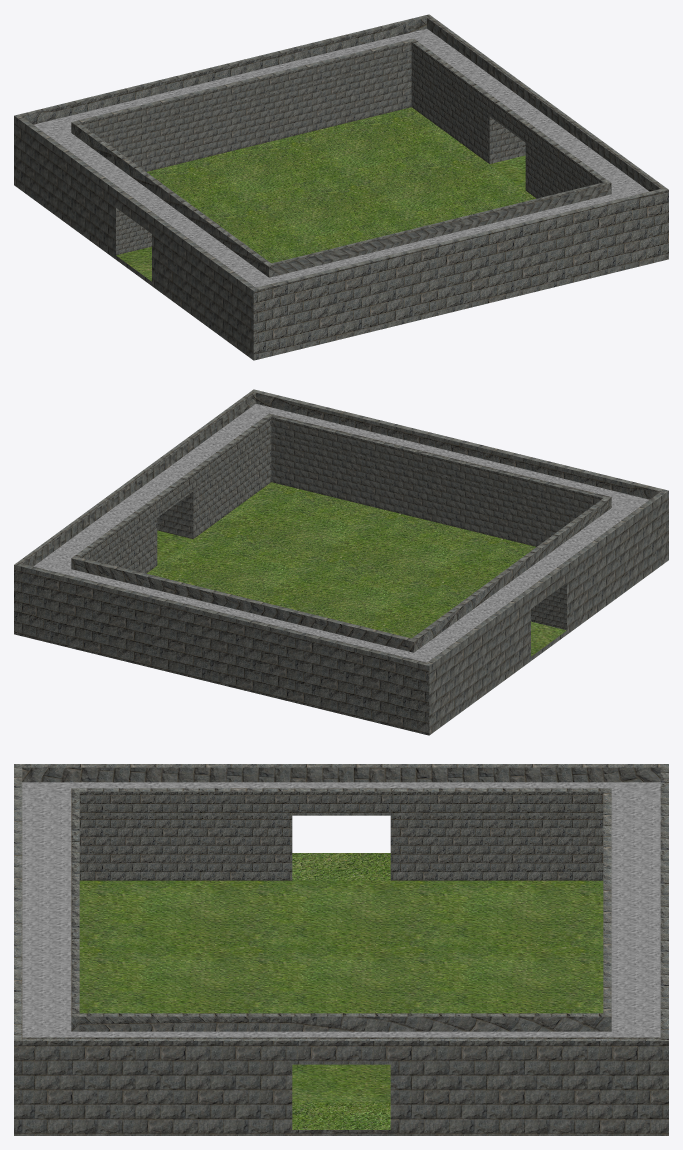
The model's file is castle.glb.
3 views of the same model, one above another, from view 1: azimuth 30°, elevation 25°; view 2: azimuth 150°, elevation 25°; view 3: azimuth 270°, elevation 25° (orthographic). The views are drawn at different scales.
Visible parts, largest first — view 1: Castle; view 2: Castle; view 3: Castle.
Boxes of the visible parts, x1,y1,x2,y2 form: Castle: (14, 14, 668, 360); Castle: (14, 389, 668, 735); Castle: (14, 764, 668, 1135).
Size of the model in its own units: 20 by 3.2 by 20.
3 materials, 3 textured.
